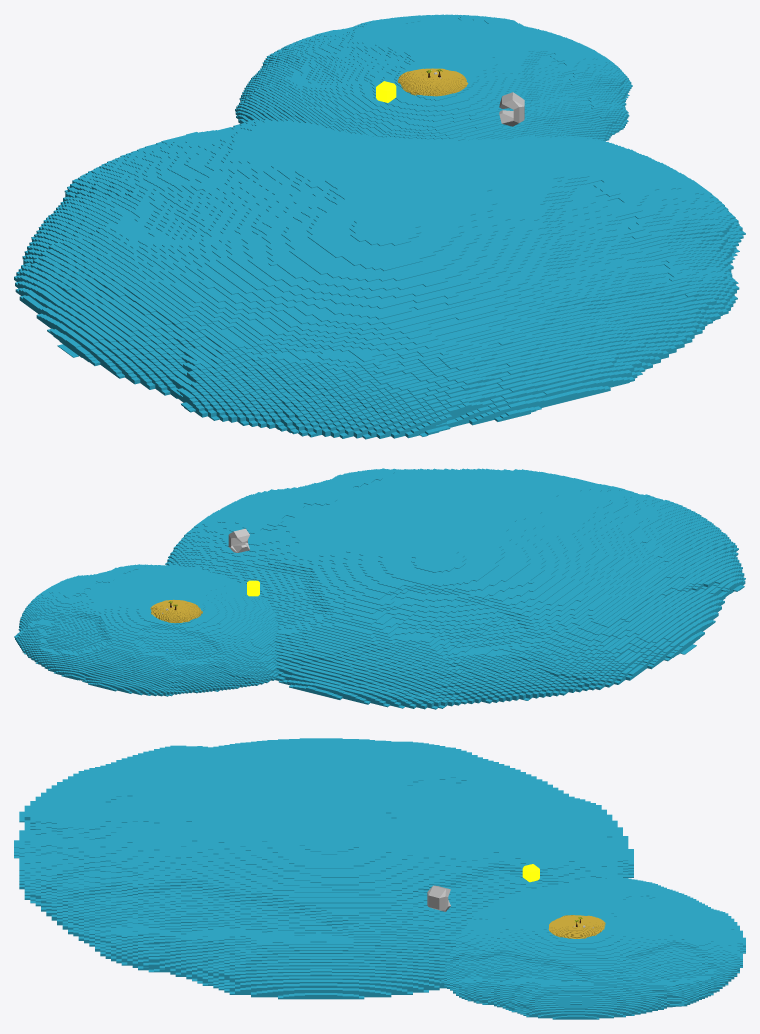
Rendered from IslandandSea.fbx.
3 views of the same model, one above another, from view 1: azimuth 30°, elevation 25°; view 2: azimuth 150°, elevation 25°; view 3: azimuth 270°, elevation 25° (orthographic). The views are drawn at different scales.
Visible parts, largest first — view 1: Icosphere.002, Icosphere.001, Icosphere, mooon; view 2: Icosphere.002, Icosphere.001, Icosphere, mooon; view 3: Icosphere.002, Icosphere.001, Icosphere, mooon.
Part boxes in pixels (left/top/right/bottom): Icosphere.002: left=14, top=119, right=745, bottom=439; Icosphere.001: left=235, top=14, right=632, bottom=141; Icosphere: left=397, top=68, right=468, bottom=96; mooon: left=499, top=92, right=524, bottom=126; Icosphere.002: left=165, top=468, right=745, bottom=709; Icosphere.001: left=14, top=564, right=279, bottom=696; Icosphere: left=150, top=599, right=202, bottom=623; mooon: left=228, top=528, right=249, bottom=552; Icosphere.002: left=14, top=738, right=633, bottom=999; Icosphere.001: left=438, top=878, right=745, bottom=1019; Icosphere: left=548, top=915, right=605, bottom=938; mooon: left=427, top=885, right=450, bottom=911.
Bounding box in the file's own units: 194560 × 21493 × 210670.
